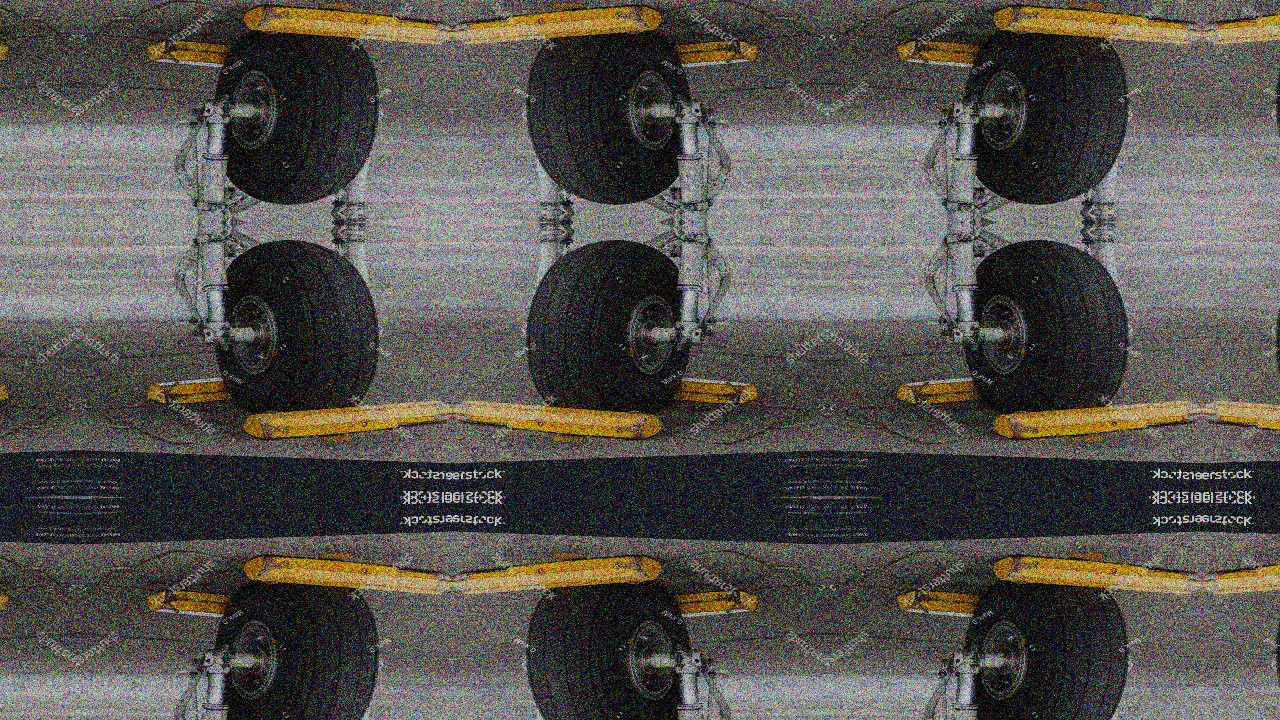chock: (240, 392, 452, 446), (453, 392, 665, 446), (990, 392, 1202, 446), (240, 549, 452, 603), (453, 549, 665, 603), (990, 549, 1202, 603), (240, 0, 452, 52), (453, 0, 665, 52), (990, 0, 1202, 52), (145, 35, 295, 71), (610, 35, 760, 71), (895, 35, 1045, 71), (145, 374, 295, 410), (610, 374, 760, 410), (895, 374, 1045, 410), (145, 585, 295, 621), (610, 585, 760, 621), (895, 585, 1045, 621), (1203, 392, 1280, 446), (1203, 549, 1280, 603), (1203, 0, 1280, 52), (0, 35, 10, 71), (0, 374, 10, 410), (0, 585, 10, 621)
wheel: (221, 25, 383, 209), (522, 25, 684, 209), (971, 25, 1133, 209), (221, 236, 383, 419), (522, 236, 684, 419), (971, 236, 1133, 419), (221, 576, 383, 720), (522, 576, 684, 720), (971, 576, 1133, 720), (1272, 25, 1280, 209), (1272, 236, 1280, 419)
